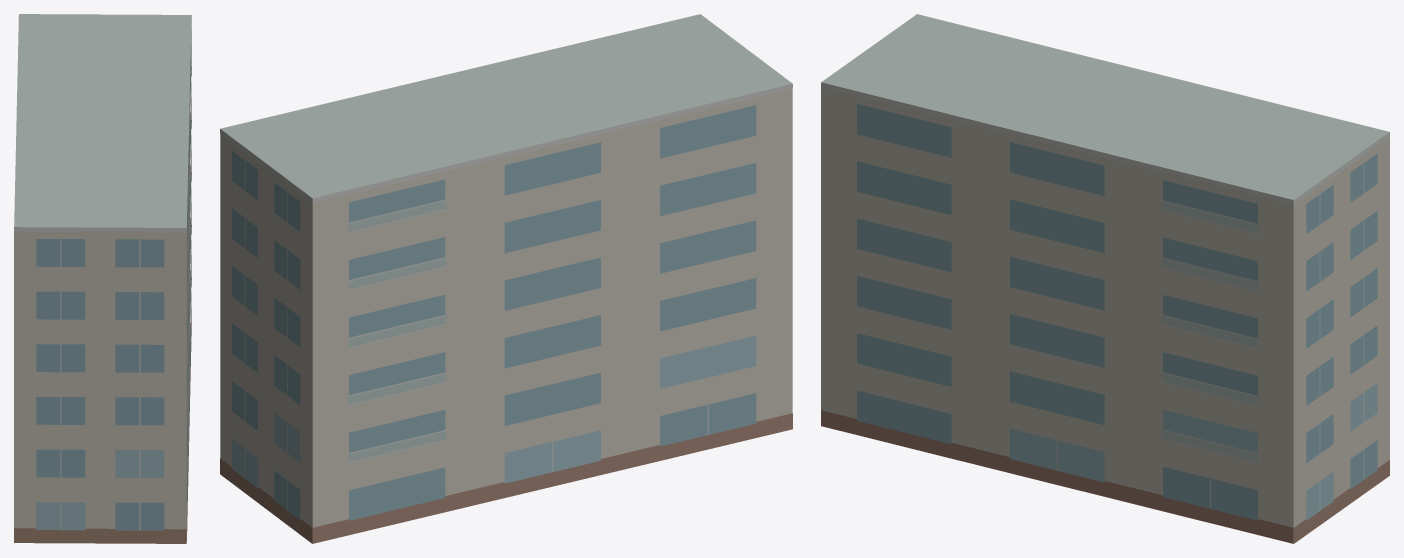
File: survey-upis-32995322.glb
3 renders of one model, left to right at view 1: azimuth 30°, elevation 25°; view 2: azimuth 150°, elevation 25°; view 3: azimuth 270°, elevation 25°, orthographic. The views are drawn at different scales.
Visible parts, largest first — view 1: survey-upis-32995322.tmp; view 2: survey-upis-32995322.tmp; view 3: survey-upis-32995322.tmp.
Part boxes in pixels (<box>): survey-upis-32995322.tmp: <box>14,14,191,543</box>; survey-upis-32995322.tmp: <box>220,14,792,543</box>; survey-upis-32995322.tmp: <box>821,14,1389,543</box>.
Size of the model in its own units: 19.51 by 16.8 by 25.2.
